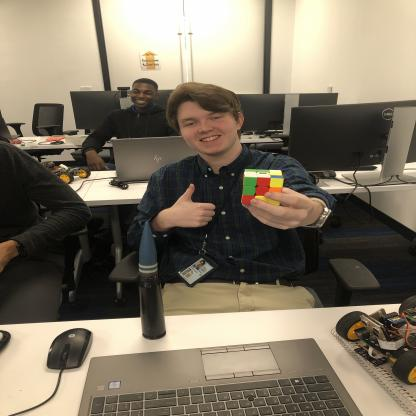UnsolvedCube: (238, 168, 284, 209)
